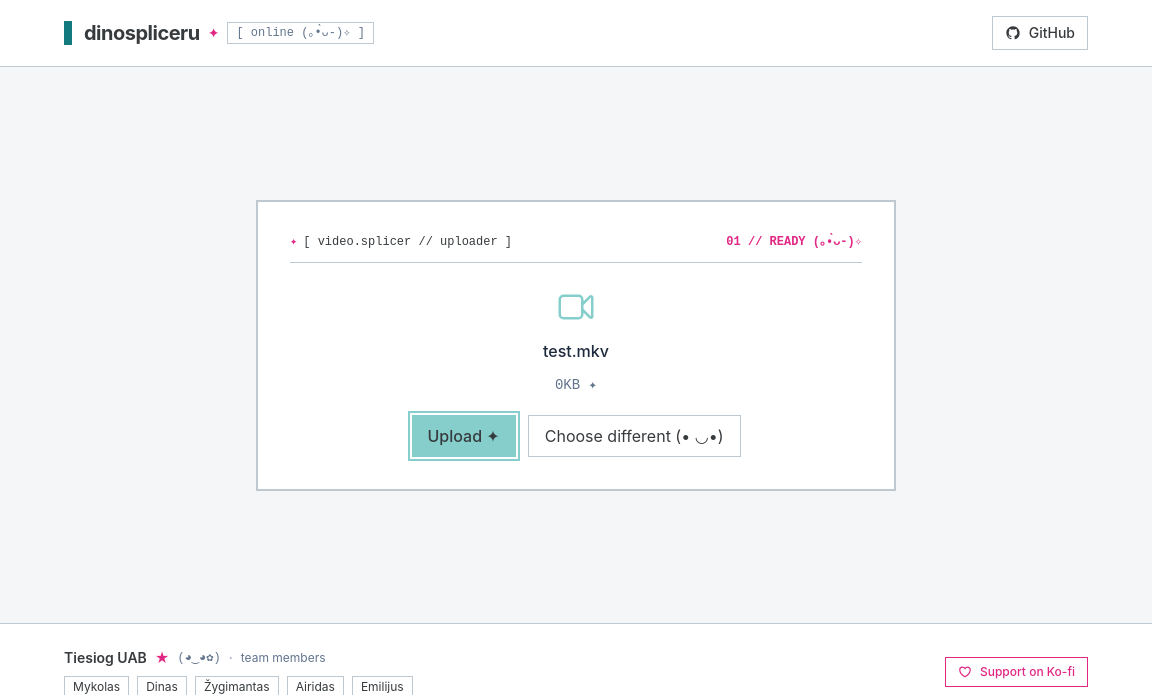
App › renders Ready overview with workspace tabs and tool buttons, and preserves Splicer inputs across navigation
Earlier steps of the test are not shown.
Later steps or results of the test are not shown.
Expected: the element named "video uploader" is shown, 256,200 -> 896,490
Click the button with test id "confirm-upload" at (464, 436), box 412,414 -> 516,456
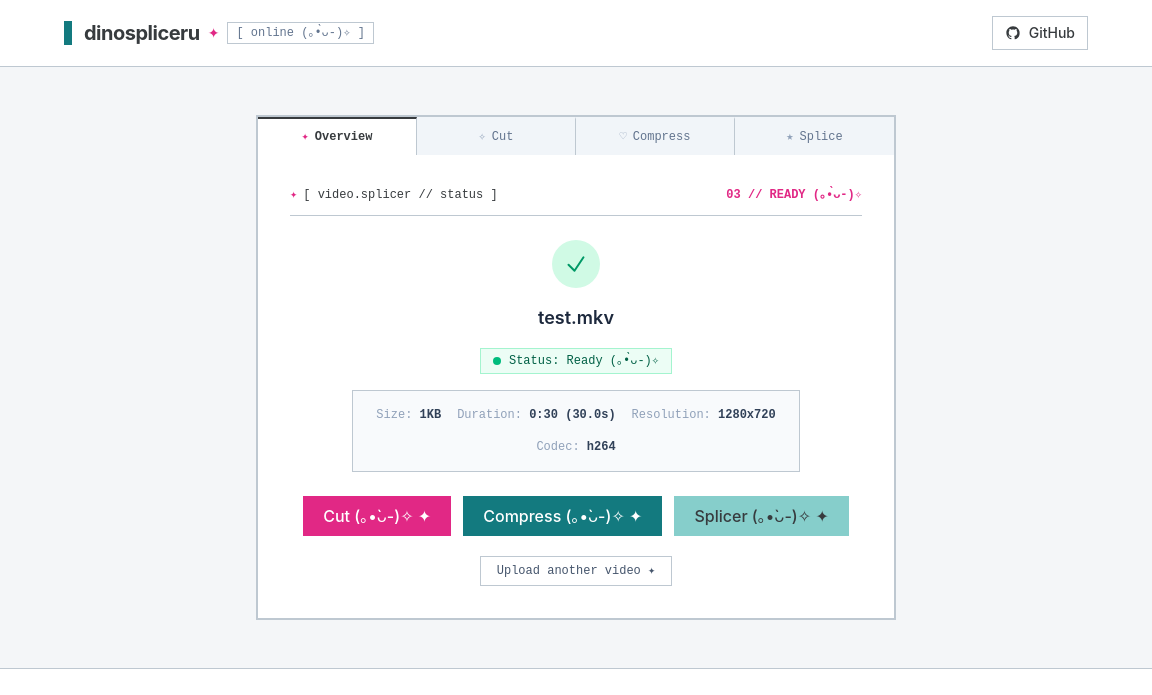
Now the element with test id "workspace-tablist" is shown, box 256,115 -> 896,155
Now the button with test id "open-splicer-btn" is shown
Click the button with test id "open-splicer-btn" at (762, 516), box 674,496 -> 849,536
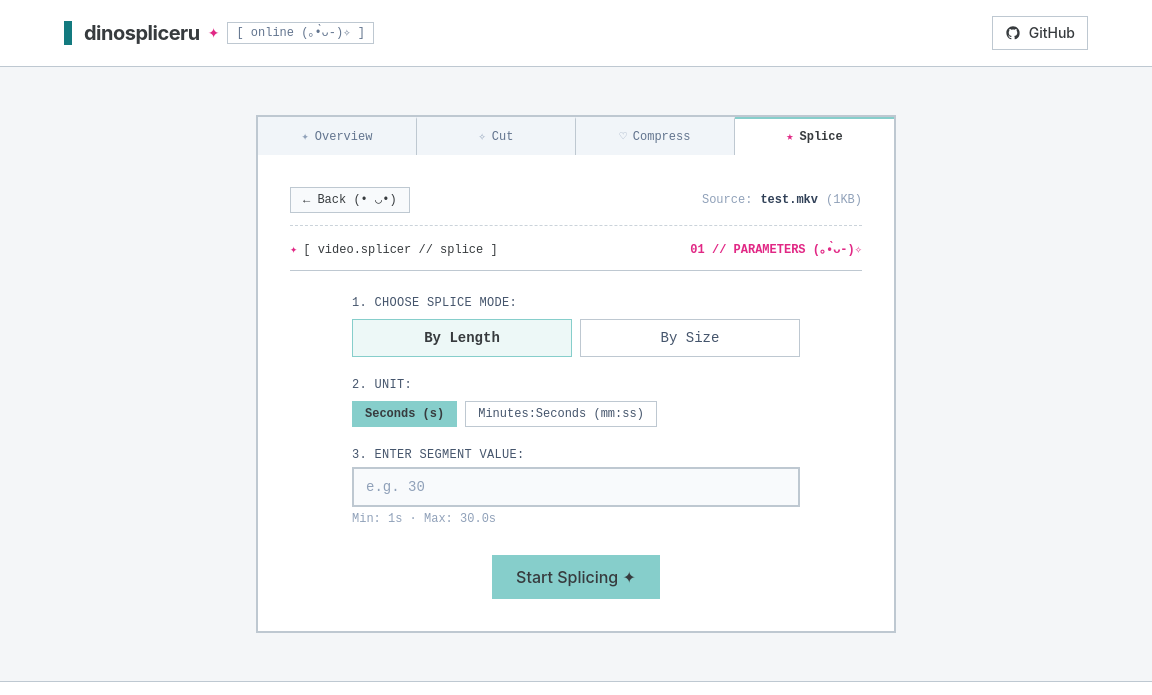
Now the element with test id "splice-panel" is shown, box 256,153 -> 896,633
Now the radio button with test id "mode-by-length" is shown, box 352,319 -> 572,357
Type "25" into the field with test id "splice-value-input" at (576, 487), box 352,467 -> 800,507
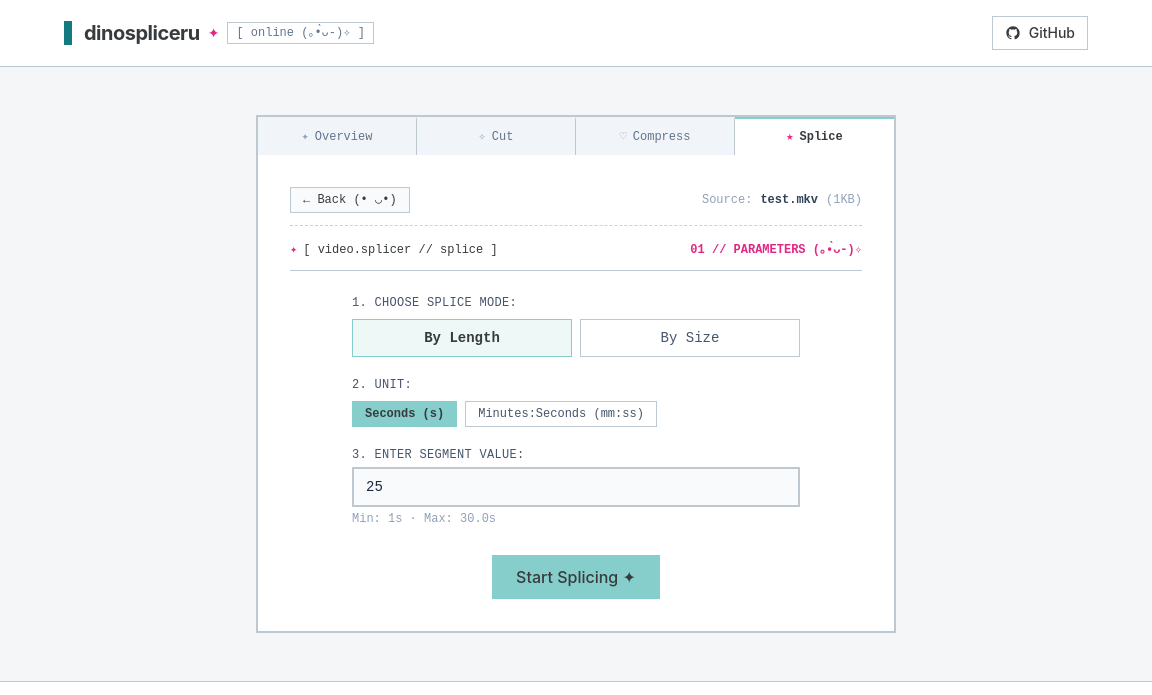
Click the button with test id "splice-back-btn" at (350, 200), box 290,187 -> 410,213
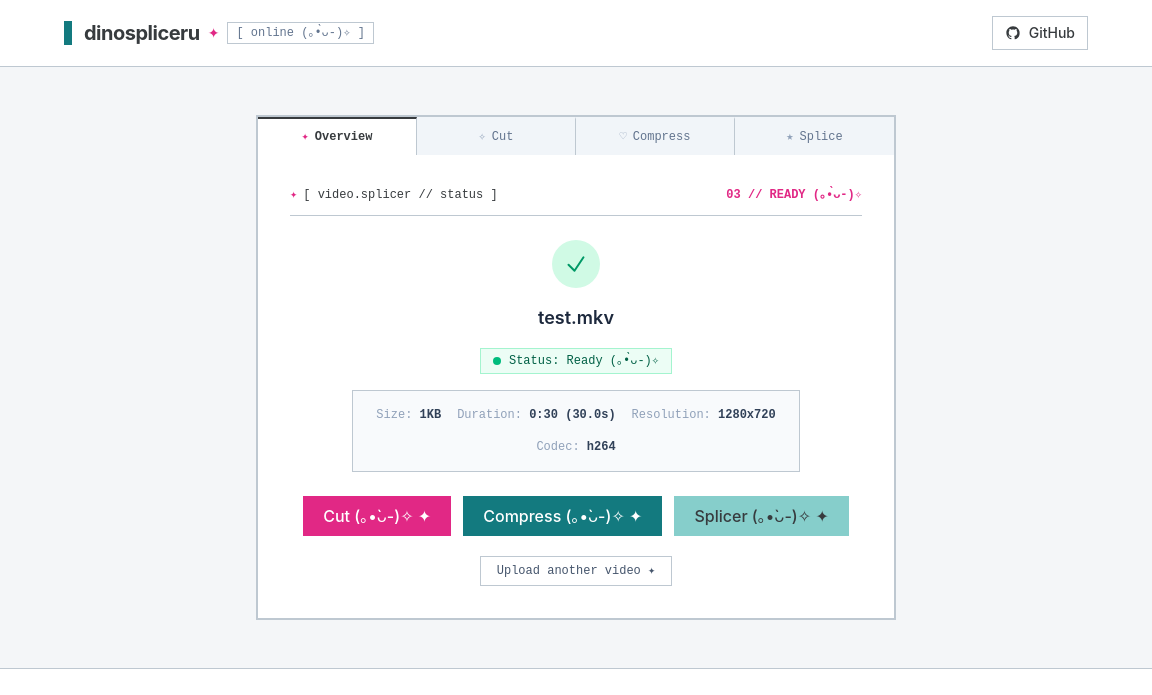
Now the button with test id "open-splicer-btn" is shown, box 674,496 -> 849,536
